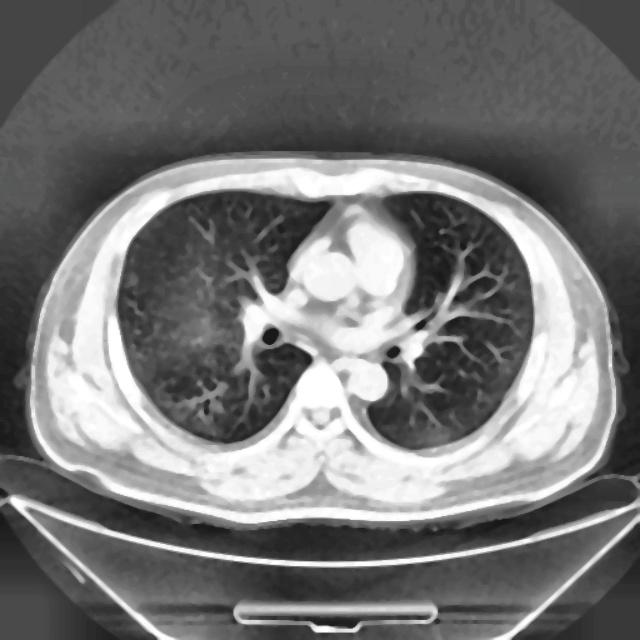covid: (23, 149, 627, 532)
